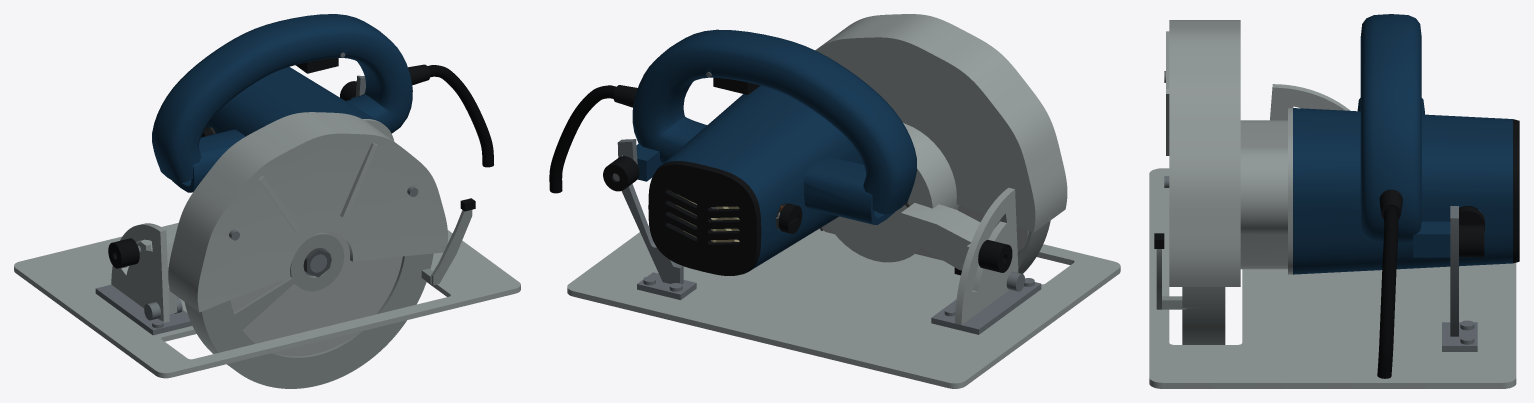
The picture shows the model from 3 angles, left to right: view 1: azimuth 30°, elevation 25°; view 2: azimuth 150°, elevation 25°; view 3: azimuth 270°, elevation 25°; orthographic projection. The views are drawn at different scales.
Visible parts, largest first — view 1: part_049_Fixed_upper_blade_guard_and_case_cover, part_032_Motor_housing_and_hollow_main_handle, part_012_Sole_plate_with_blade_opening, part_019_Retractable_lower_guard_and_lifting_lever, part_038_Installed_toothed_blade_plate, part_045_Front_curved_bevel_quadrant, part_046_Front_bevel_foot, part_013_Short_attached_power_cord_jacket, part_047_Front_bevel_clamping_knob, part_057_Die_cast_drive_case_and_mounting_arms; view 2: part_012_Sole_plate_with_blade_opening, part_032_Motor_housing_and_hollow_main_handle, part_049_Fixed_upper_blade_guard_and_case_cover, part_024_Rear_cap_with_twin_ventilation_banks, part_057_Die_cast_drive_case_and_mounting_arms, part_045_Front_curved_bevel_quadrant, part_020_Rear_slotted_depth_slide, part_046_Front_bevel_foot, part_013_Short_attached_power_cord_jacket, part_023_Rear_depth_clamping_knob, part_047_Front_bevel_clamping_knob, part_019_Retractable_lower_guard_and_lifting_lever (+4 smaller); view 3: part_032_Motor_housing_and_hollow_main_handle, part_012_Sole_plate_with_blade_opening, part_049_Fixed_upper_blade_guard_and_case_cover, part_057_Die_cast_drive_case_and_mounting_arms, part_019_Retractable_lower_guard_and_lifting_lever, part_013_Short_attached_power_cord_jacket, part_045_Front_curved_bevel_quadrant, part_020_Rear_slotted_depth_slide, part_024_Rear_cap_with_twin_ventilation_banks, part_023_Rear_depth_clamping_knob, part_022_Rear_depth_foot, part_059_Cord_entry_strain_relief (+1 smaller).
Boxes of the visible parts, x1,y1,x2,y2 form: part_049_Fixed_upper_blade_guard_and_case_cover: [168, 112, 447, 312]; part_032_Motor_housing_and_hollow_main_handle: [152, 14, 412, 192]; part_012_Sole_plate_with_blade_opening: [14, 223, 520, 378]; part_019_Retractable_lower_guard_and_lifting_lever: [184, 210, 472, 388]; part_038_Installed_toothed_blade_plate: [230, 231, 402, 356]; part_045_Front_curved_bevel_quadrant: [111, 223, 169, 322]; part_046_Front_bevel_foot: [95, 284, 192, 335]; part_013_Short_attached_power_cord_jacket: [427, 65, 493, 167]; part_047_Front_bevel_clamping_knob: [108, 238, 139, 268]; part_057_Die_cast_drive_case_and_mounting_arms: [137, 119, 394, 313]; part_012_Sole_plate_with_blade_opening: [567, 225, 1120, 388]; part_032_Motor_housing_and_hollow_main_handle: [623, 29, 916, 269]; part_049_Fixed_upper_blade_guard_and_case_cover: [815, 14, 1067, 232]; part_024_Rear_cap_with_twin_ventilation_banks: [648, 161, 761, 275]; part_057_Die_cast_drive_case_and_mounting_arms: [827, 123, 980, 270]; part_045_Front_curved_bevel_quadrant: [955, 187, 1018, 324]; part_020_Rear_slotted_depth_slide: [617, 139, 683, 284]; part_046_Front_bevel_foot: [931, 282, 1041, 334]; part_013_Short_attached_power_cord_jacket: [549, 85, 616, 193]; part_023_Rear_depth_clamping_knob: [603, 156, 639, 191]; part_047_Front_bevel_clamping_knob: [978, 240, 1012, 272]; part_019_Retractable_lower_guard_and_lifting_lever: [817, 220, 1050, 273]; part_032_Motor_housing_and_hollow_main_handle: [1293, 14, 1512, 274]; part_012_Sole_plate_with_blade_opening: [1149, 168, 1516, 388]; part_049_Fixed_upper_blade_guard_and_case_cover: [1166, 20, 1240, 286]; part_057_Die_cast_drive_case_and_mounting_arms: [1240, 108, 1292, 274]; part_019_Retractable_lower_guard_and_lifting_lever: [1156, 249, 1225, 344]; part_013_Short_attached_power_cord_jacket: [1377, 207, 1398, 378]; part_045_Front_curved_bevel_quadrant: [1270, 84, 1350, 120]; part_020_Rear_slotted_depth_slide: [1450, 206, 1458, 336]; part_024_Rear_cap_with_twin_ventilation_banks: [1513, 119, 1519, 263]; part_023_Rear_depth_clamping_knob: [1459, 225, 1484, 256]; part_022_Rear_depth_foot: [1442, 322, 1477, 351]; part_059_Cord_entry_strain_relief: [1379, 189, 1402, 219].
Size of the model in its own units: 0.2302 by 0.1451 by 0.1424.
